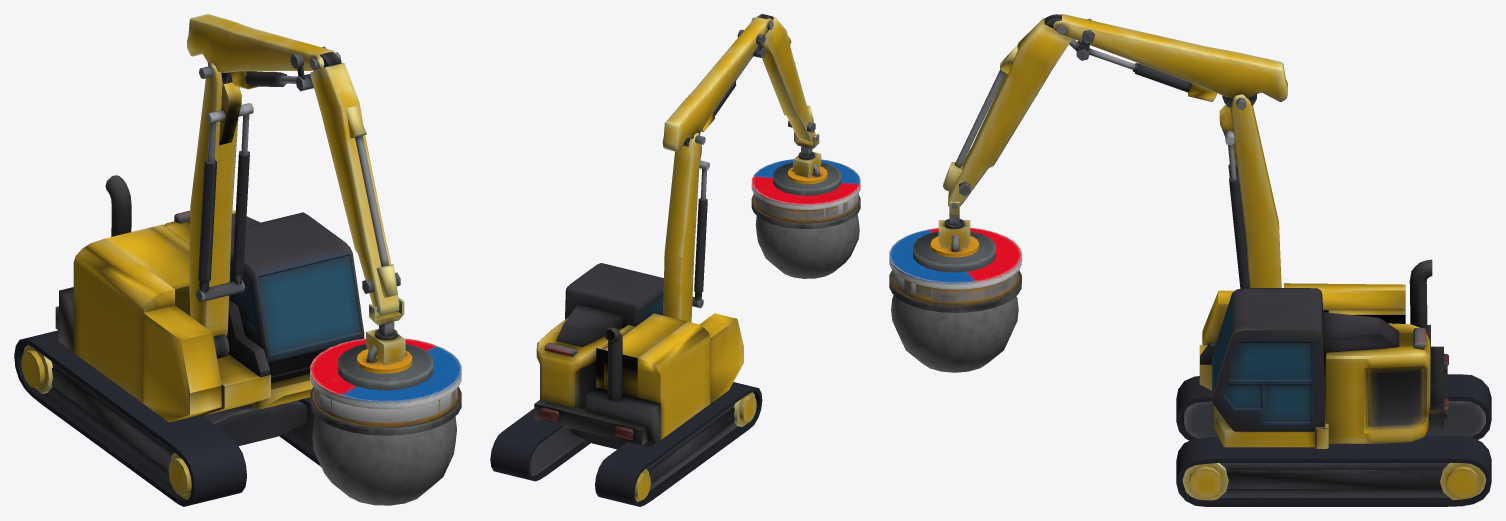
The model's file is vehicle-v5.glb.
The picture shows the model from 3 angles, left to right: view 1: azimuth 30°, elevation 25°; view 2: azimuth 150°, elevation 25°; view 3: azimuth 270°, elevation 25°; orthographic projection. The views are drawn at different scales.
Parts seen in each view (by area): view 1: body, Crane_Pipe, Crane, Magnet4.001, Magnet3.001, Magnet2.001; view 2: body, Crane_Pipe, Crane, Magnet4.001, Magnet3.001, Magnet2.001; view 3: body, Crane_Pipe, Crane, Magnet4.001, Magnet3.001, Magnet2.001.
Boxes of the visible parts, left/top/right/bottom form: body: left=55, top=175, right=364, bottom=422; Crane_Pipe: left=187, top=14, right=405, bottom=365; Crane: left=14, top=330, right=320, bottom=506; Magnet4.001: left=312, top=344, right=456, bottom=505; Magnet3.001: left=310, top=338, right=461, bottom=435; Magnet2.001: left=314, top=344, right=456, bottom=422; body: left=534, top=263, right=743, bottom=447; Crane_Pipe: left=662, top=14, right=821, bottom=322; Crane: left=490, top=382, right=762, bottom=506; Magnet4.001: left=755, top=163, right=859, bottom=278; Magnet3.001: left=751, top=159, right=860, bottom=228; Magnet2.001: left=773, top=162, right=858, bottom=217; body: left=1199, top=259, right=1448, bottom=448; Crane_Pipe: left=938, top=14, right=1287, bottom=288; Crane: left=1176, top=374, right=1491, bottom=506; Magnet4.001: left=891, top=234, right=1018, bottom=372; Magnet3.001: left=889, top=227, right=1021, bottom=312; Magnet2.001: left=892, top=231, right=995, bottom=298.
Bounding box in the file's own units: 4.42 × 10.53 × 13.27.
6 materials, 6 textured.
